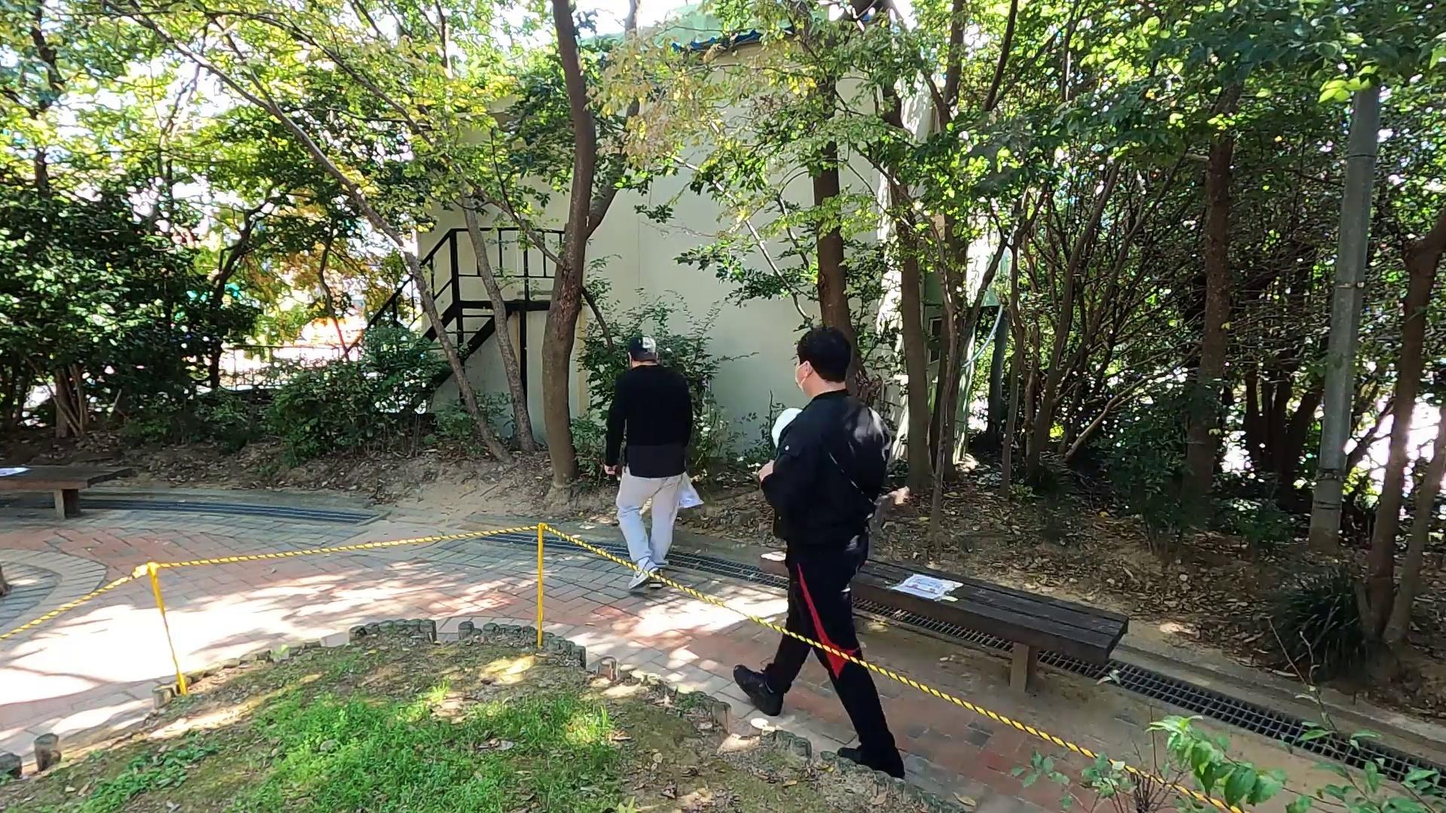person: (736, 325, 925, 782), (583, 324, 706, 599)
trash: (666, 467, 708, 512)
